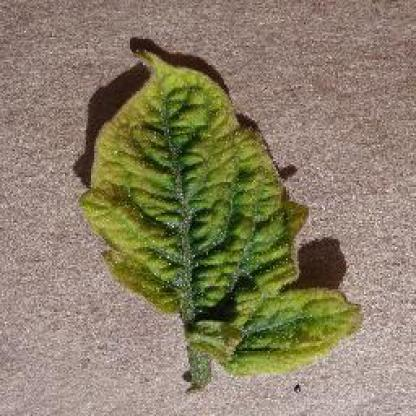bad leaf: (69, 25, 356, 396)
